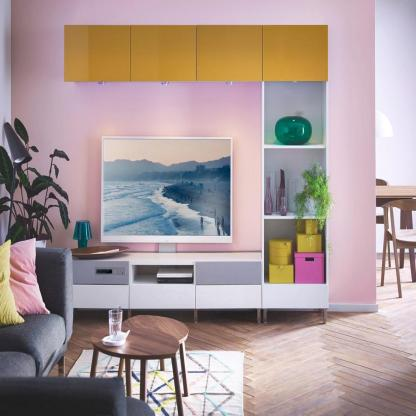Sofa: (0, 238, 76, 379)
